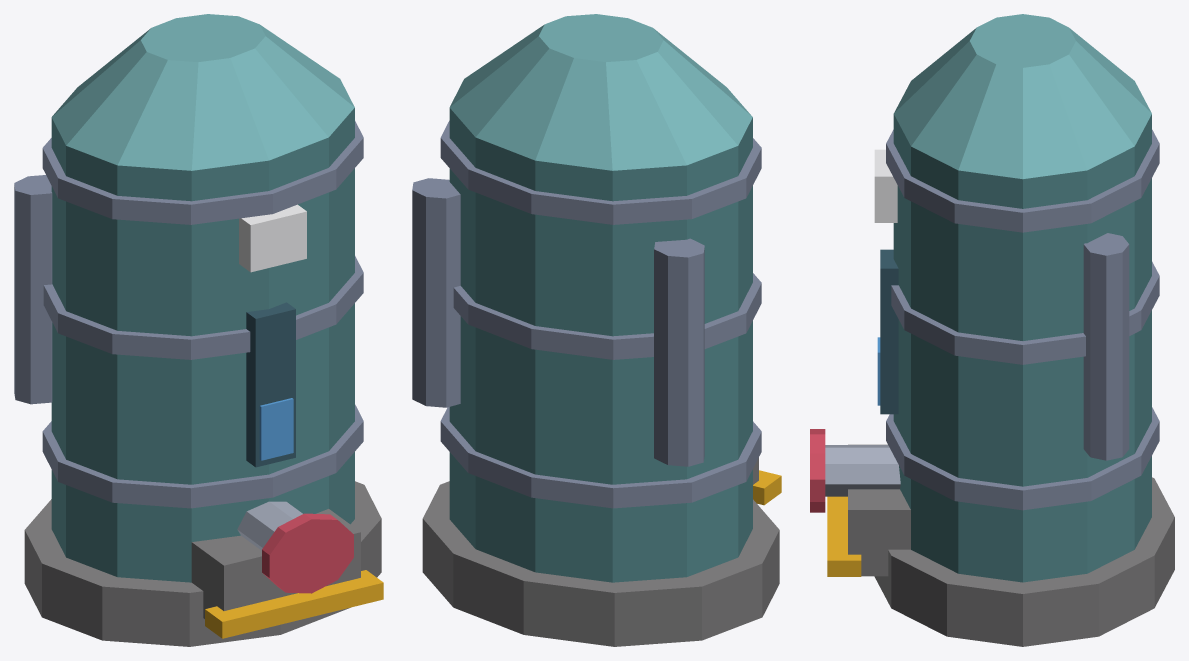
Rendered from condenser.glb.
3 renders of one model, left to right at view 1: azimuth 30°, elevation 25°; view 2: azimuth 150°, elevation 25°; view 3: azimuth 270°, elevation 25°, orthographic. The views are drawn at different scales.
Parts seen in each view (by area): view 1: condenser; view 2: condenser; view 3: condenser.
Boxes of the visible parts, x1,y1,x2,y2 form: condenser: [14, 14, 383, 646]; condenser: [412, 14, 781, 646]; condenser: [810, 14, 1174, 646].
Size of the model in its own units: 1 by 1.6 by 1.
